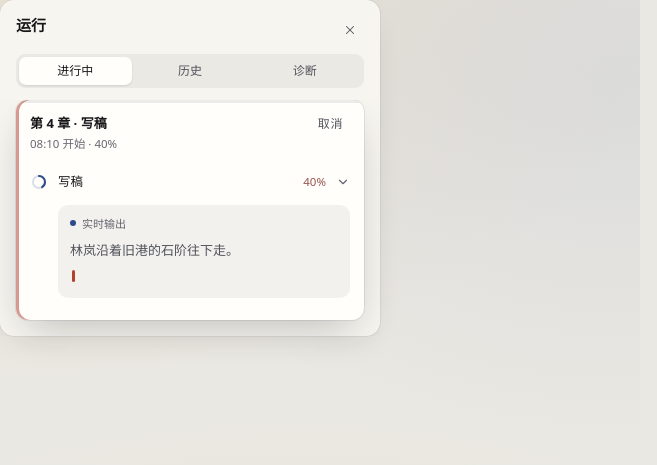
Scenario: 运行侧页 › 三个分页：进行中看运行，历史列出结束的运行并展开看步骤，诊断是宽版
Expected: the element showing "第 4 章 · 写稿 08:10 开始 · 40% 取消 写稿 40% 实时输出 林岚沿着旧港的石阶往下走。" is shown, [16,100,364,320]
Expected: the element with class "run-output" reads "林岚沿着旧港的石阶往下走。", [70,243,239,258]
Click the tab "历史". click: click(190, 71)
box: [134,57,246,85]
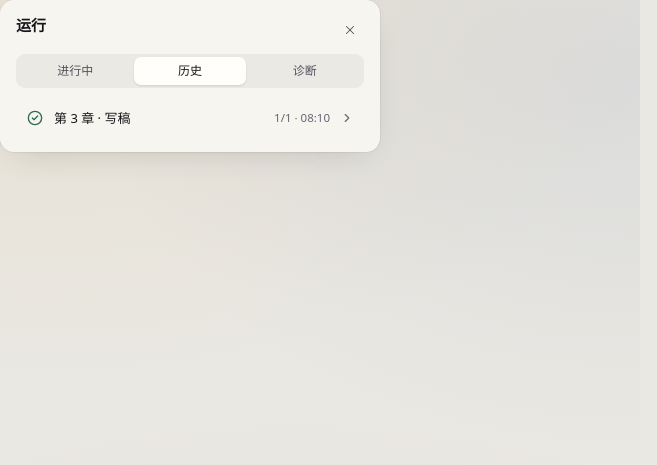
Click the button "第 3 章 · 写稿 1/1 · 08:10". click: click(92, 118)
box: [16,100,364,136]
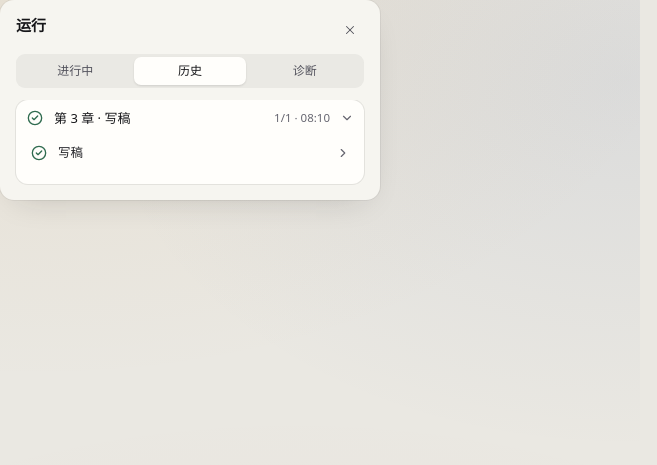
Expected: the list named "步骤" reads "写稿", [24,136,356,170]
Click the tab "诊断". click: click(305, 71)
box: [248,57,361,85]
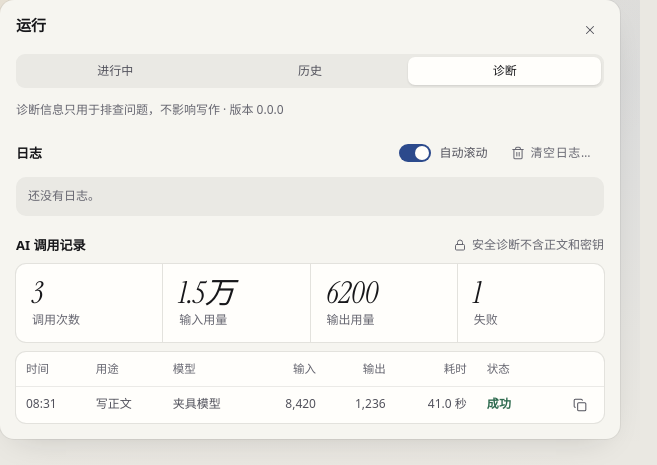
Expected: the text "AI 调用记录" is shown, [16,236,85,254]
Expected: the table shows "夹具模型", [173,396,221,412]
Expected: the element named "调用统计" shows "1.5万", [179,273,235,312]
